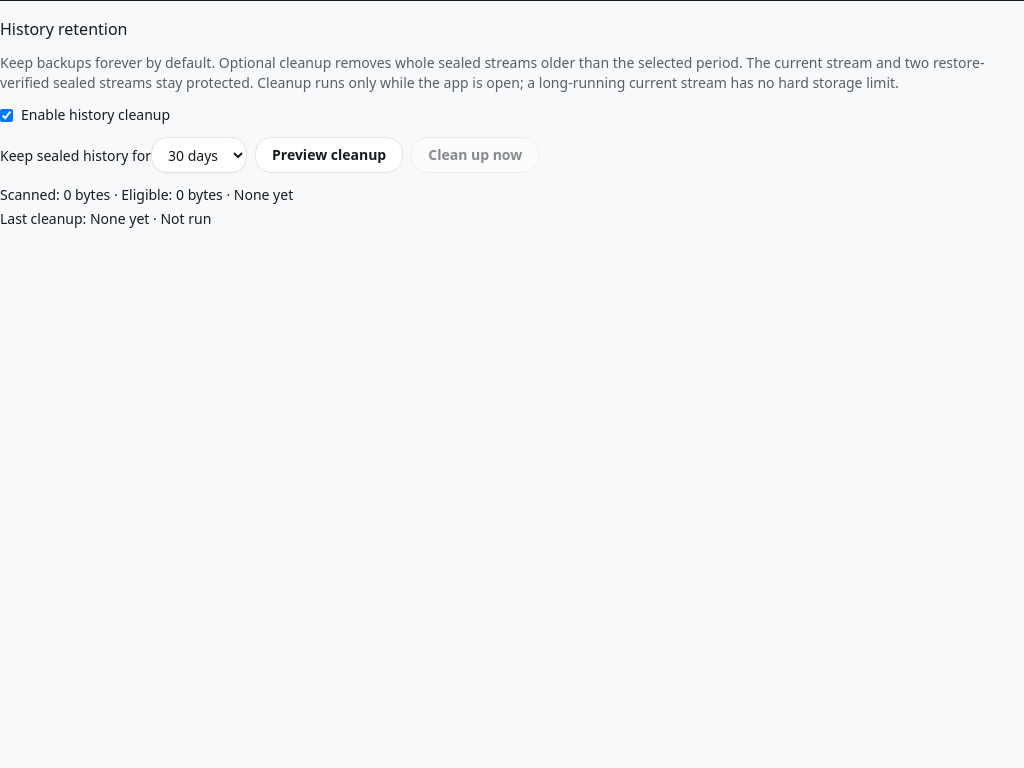
history retention › shows protected reasons and rechecks confirmation on every manual run
Click the button "Preview cleanup": point(329, 155) [255,137,403,173]
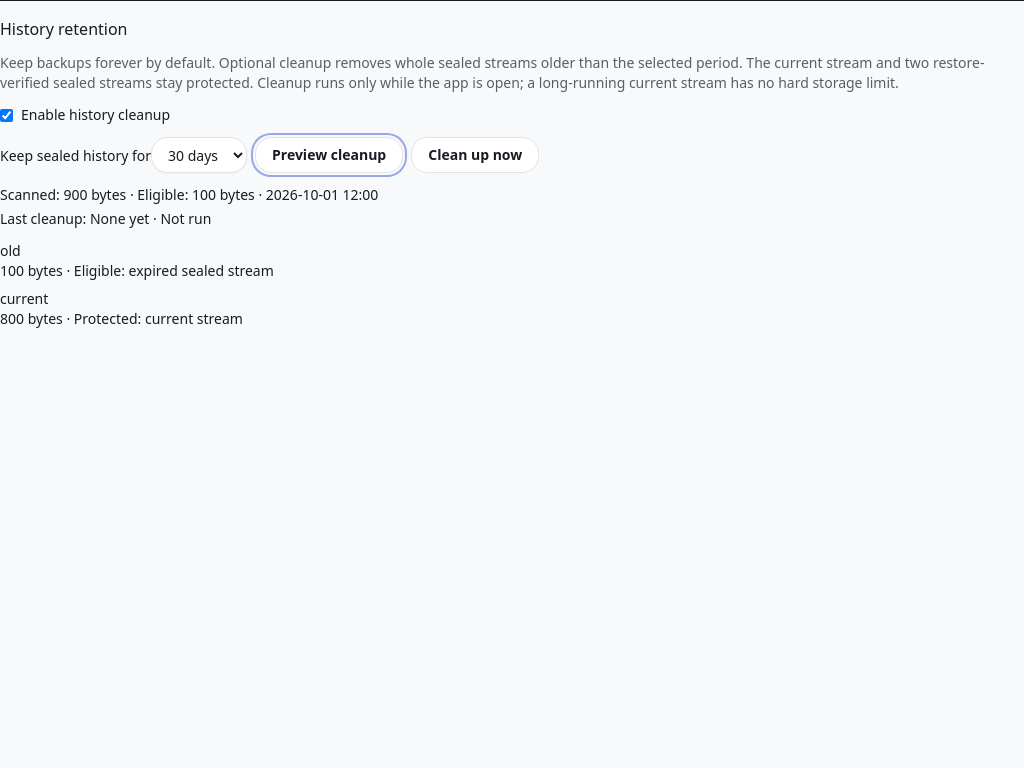
Check: the list named "Deletion candidates and protected streams" is shown, box [0,241,274,328]
Check: the text "800 bytes · Protected: current stream" is shown, box [0,309,243,328]
Click the button "Clean up now": point(475, 155) [411,137,539,173]
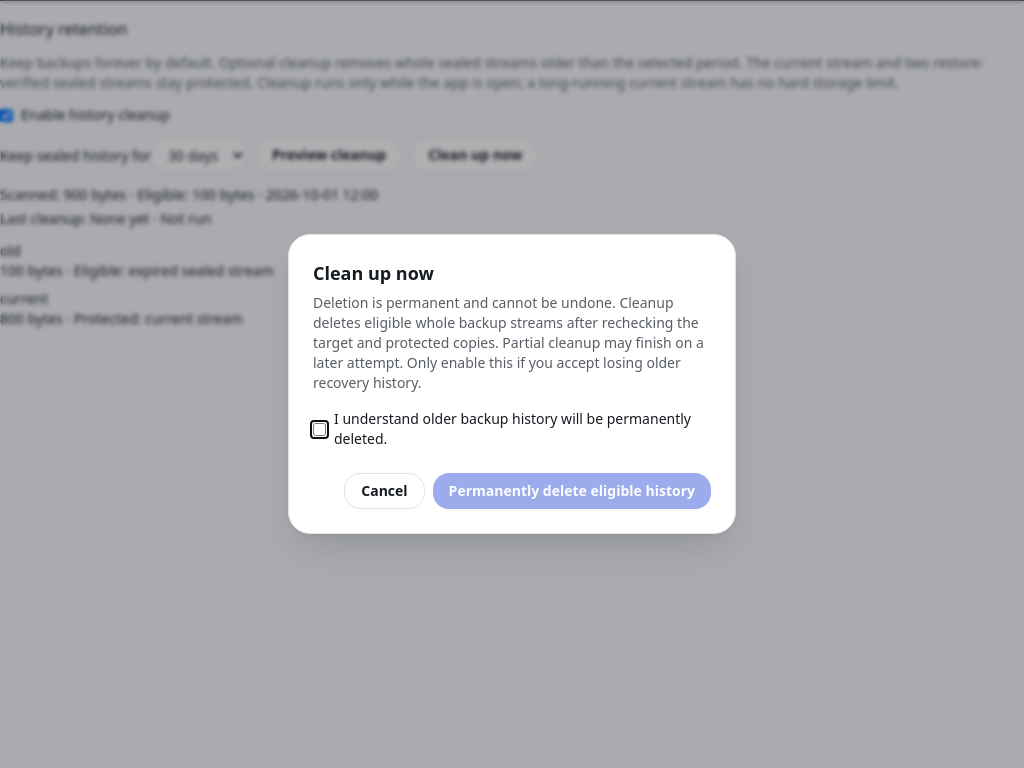
Click the button "Cancel": point(384, 491) [344,473,425,509]
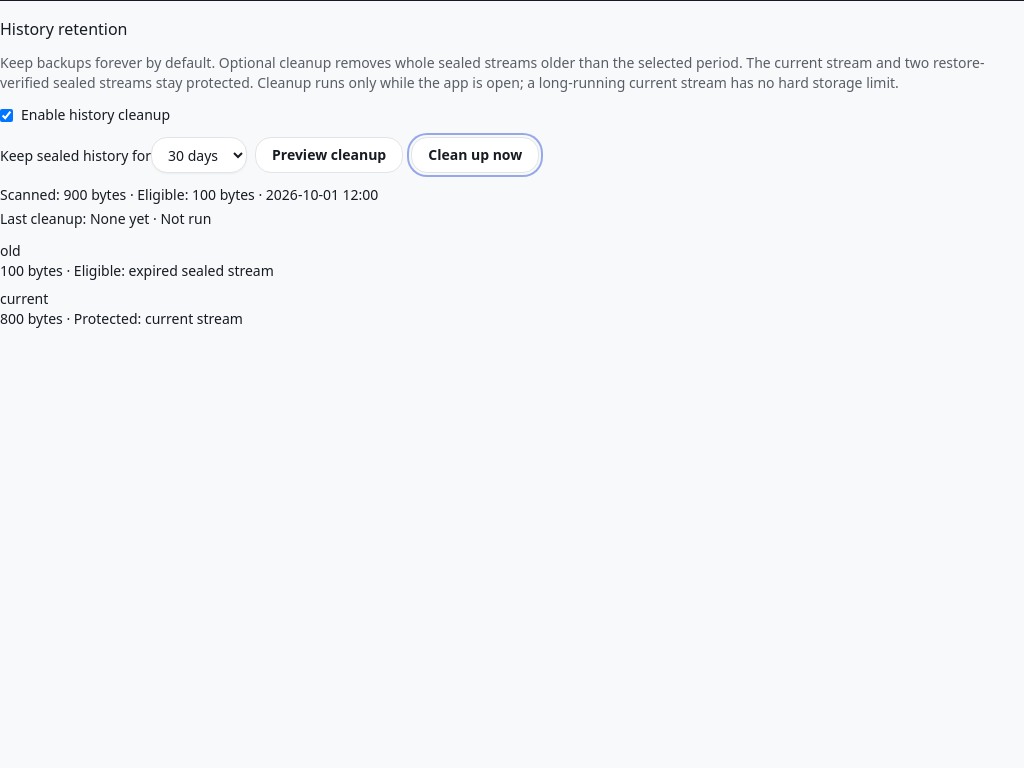
Click the button "Clean up now": point(475, 155) [411,137,539,173]
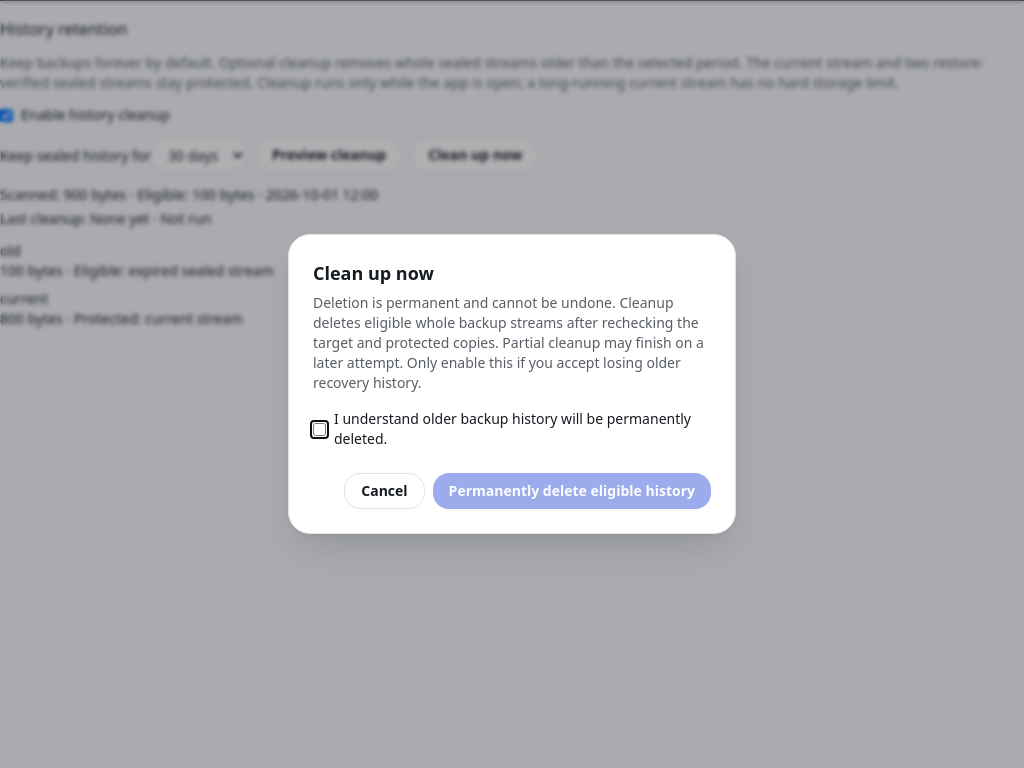
Check: the button "Permanently delete eligible history" is disabled, box [433,473,711,509]
Click the checkbox labelled "I understand older backup history will be permanently deleted.": point(320, 429) [313,422,326,436]
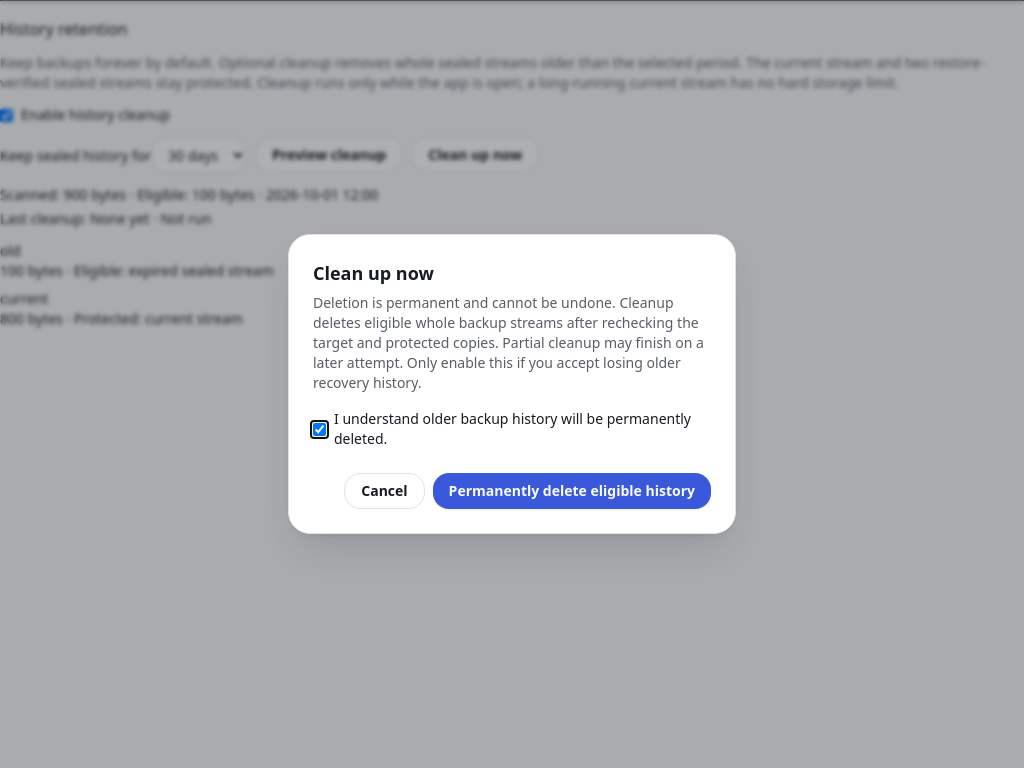
Double-click the button "Permanently delete eligible history": point(572, 491) [433,473,711,509]
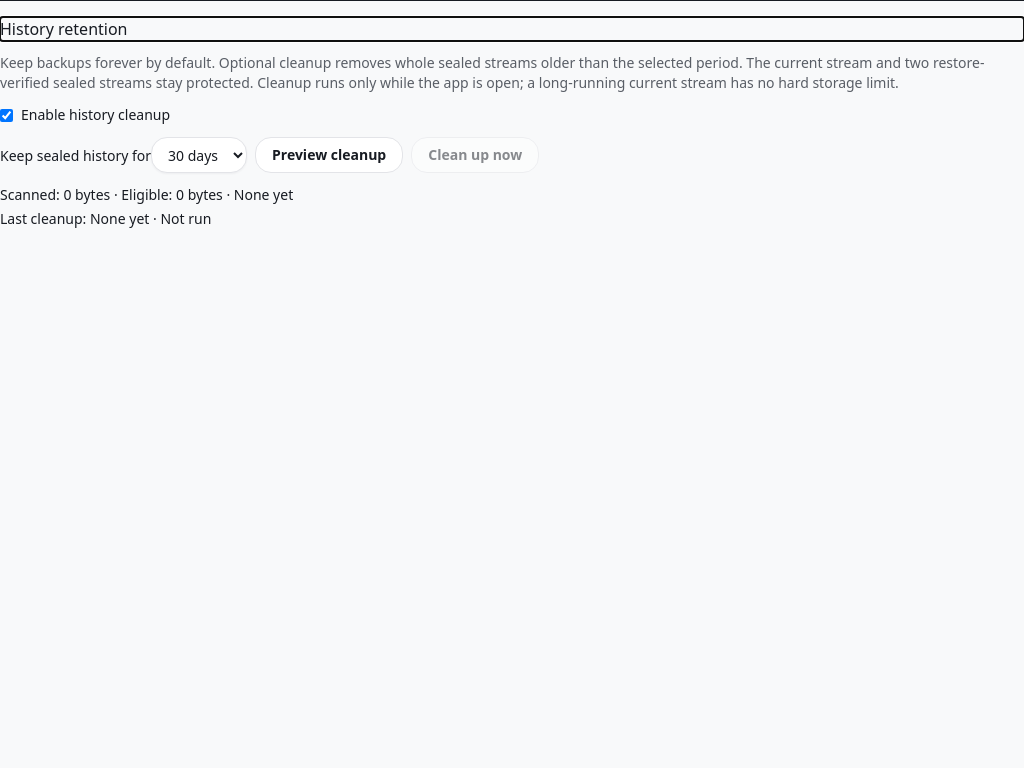
Check: the dialog is gone
Check: the button "Clean up now" is disabled, box [411,137,539,173]
